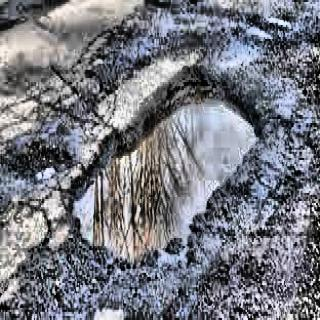alligator-crack: (29, 48, 122, 130)
pothole: (74, 68, 260, 275), (14, 145, 70, 186)
